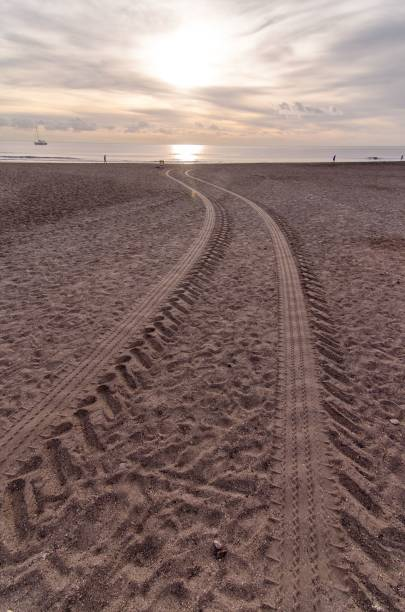vehicle_track: (186, 171, 349, 611), (0, 189, 215, 477)
